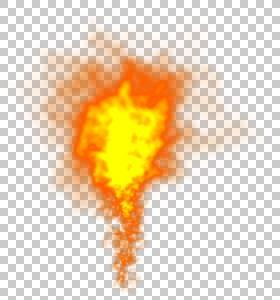fire: (87, 91, 161, 190)
